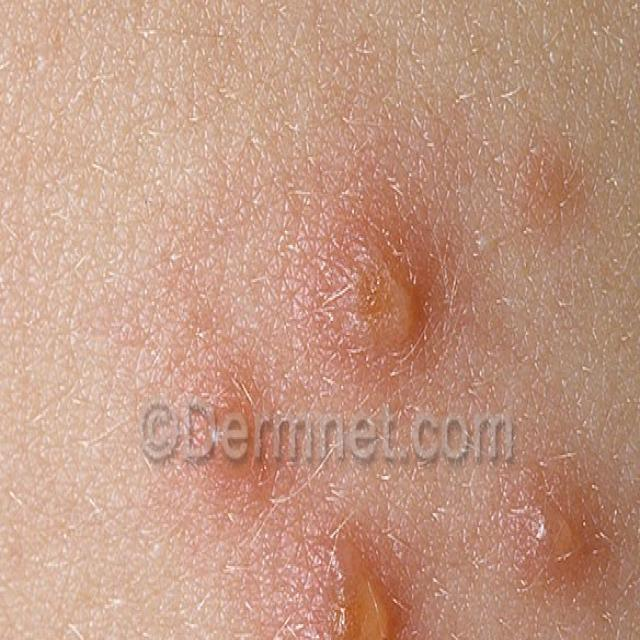Viral Infections: (326, 212, 449, 392), (522, 467, 619, 602), (196, 377, 294, 505), (321, 543, 403, 640)
